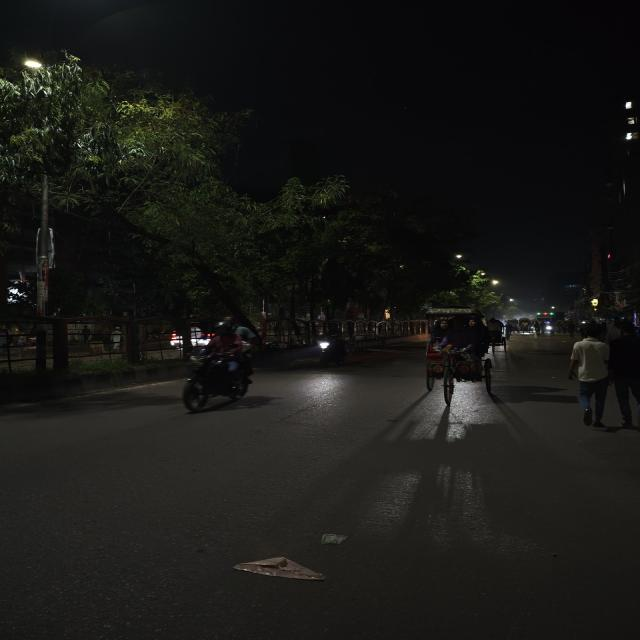motorcycle: (160, 304, 264, 418), (303, 315, 353, 381)
pedestrian: (566, 322, 616, 429), (610, 322, 640, 427), (567, 317, 578, 341), (547, 322, 557, 338), (539, 321, 546, 337)
rickshaw: (417, 307, 493, 409), (484, 315, 506, 348), (518, 318, 532, 336)
truck: (536, 310, 562, 328)
